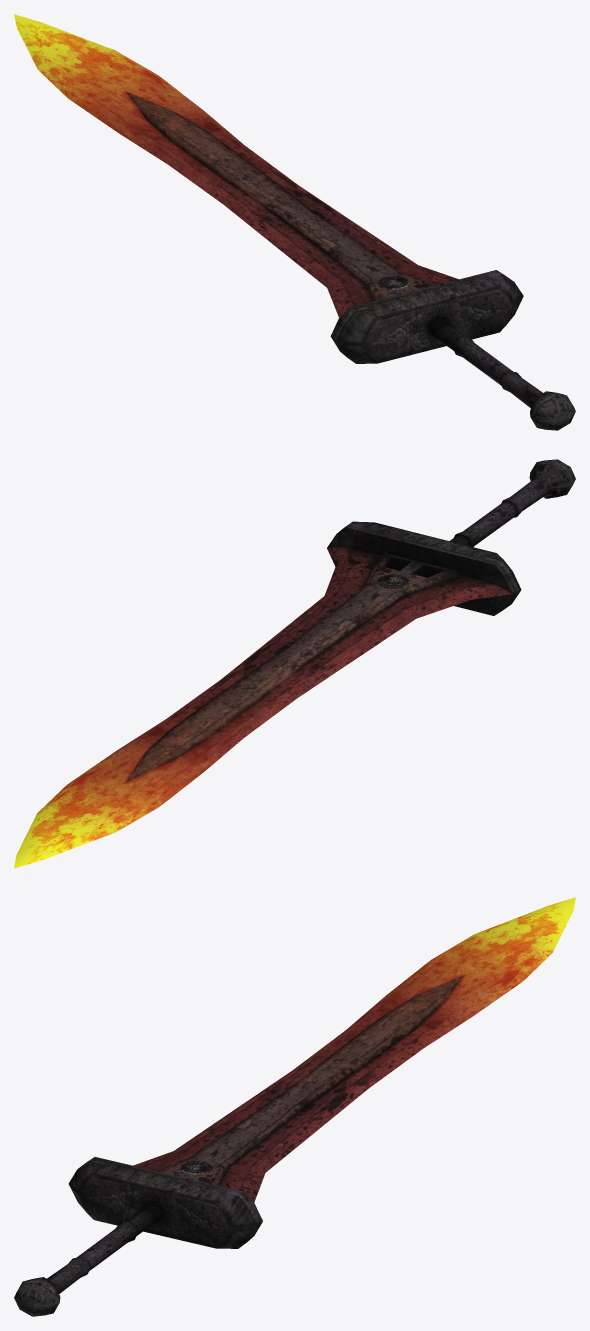
The model's file is sword_l___sword_pdz_sword.glb.
3 views of the same model, one above another, from view 1: azimuth 30°, elevation 25°; view 2: azimuth 150°, elevation 25°; view 3: azimuth 330°, elevation 25° (orthographic).
Bounding box in the file's own units: 1.02 × 0.2731 × 5.17.
1 material, 1 textured.
